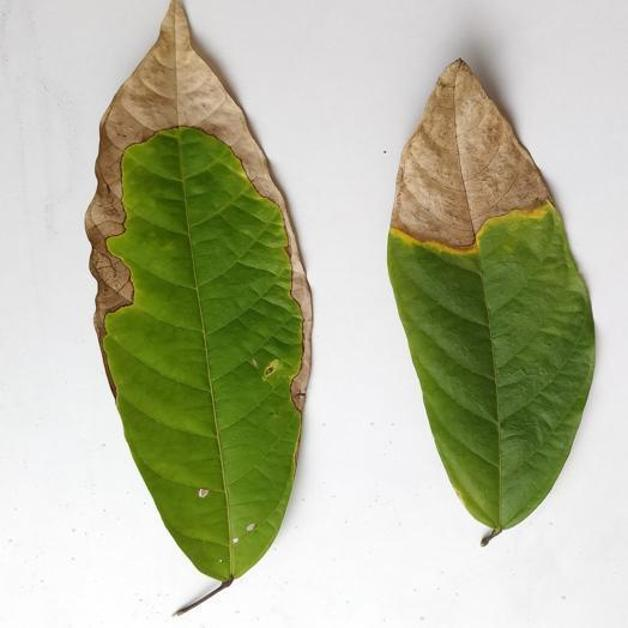Potassium: (86, 0, 311, 613), (388, 60, 594, 544)
